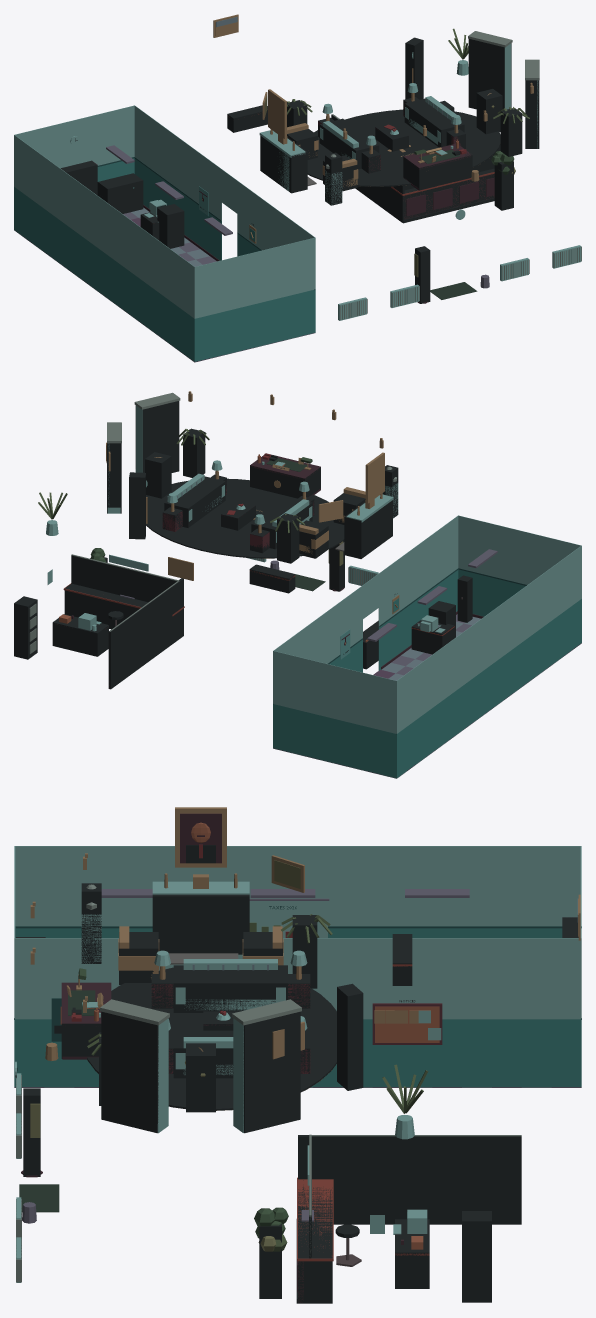
File: primarie_interior.glb
The picture shows the model from 3 angles, top to bottom: view 1: azimuth 30°, elevation 25°; view 2: azimuth 150°, elevation 25°; view 3: azimuth 270°, elevation 25°; orthographic projection. The views are drawn at different scales.
Parts seen in each view (by area): view 1: Interior, Coliziune; view 2: Interior, Coliziune; view 3: Interior, Coliziune.
Part boxes in pixels (x1=…): Interior: x1=14, y1=14, x2=581, y2=362; Coliziune: x1=60, y1=37, x2=539, y2=303; Interior: x1=29, y1=392, x2=581, y2=778; Coliziune: x1=14, y1=401, x2=472, y2=689; Interior: x1=14, y1=807, x2=581, y2=1303; Coliziune: x1=16, y1=883, x2=578, y2=1303.
Bounding box in the file's own units: 14.78 × 6.57 × 11.42.
